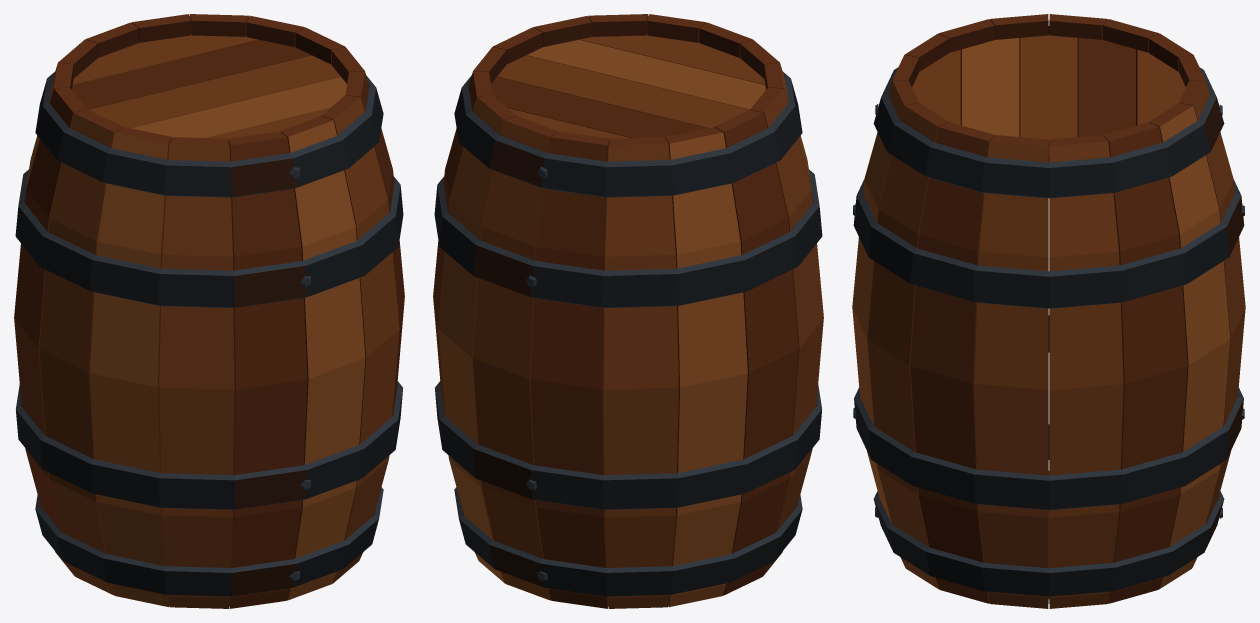
Rendered from Wooden Mining Barrel.obj.
3 renders of one model, left to right at view 1: azimuth 30°, elevation 25°; view 2: azimuth 150°, elevation 25°; view 3: azimuth 270°, elevation 25°, orthographic.
Visible parts, largest first — view 1: Wooden_Mining_Barrel.Static; view 2: Wooden_Mining_Barrel.Static; view 3: Wooden_Mining_Barrel.Static.
Part boxes in pixels (x1=…): Wooden_Mining_Barrel.Static: x1=14, y1=14, x2=404, y2=608; Wooden_Mining_Barrel.Static: x1=433, y1=14, x2=823, y2=608; Wooden_Mining_Barrel.Static: x1=852, y1=14, x2=1245, y2=608.
Size of the model in its own units: 0.754 by 0.98 by 0.754.
